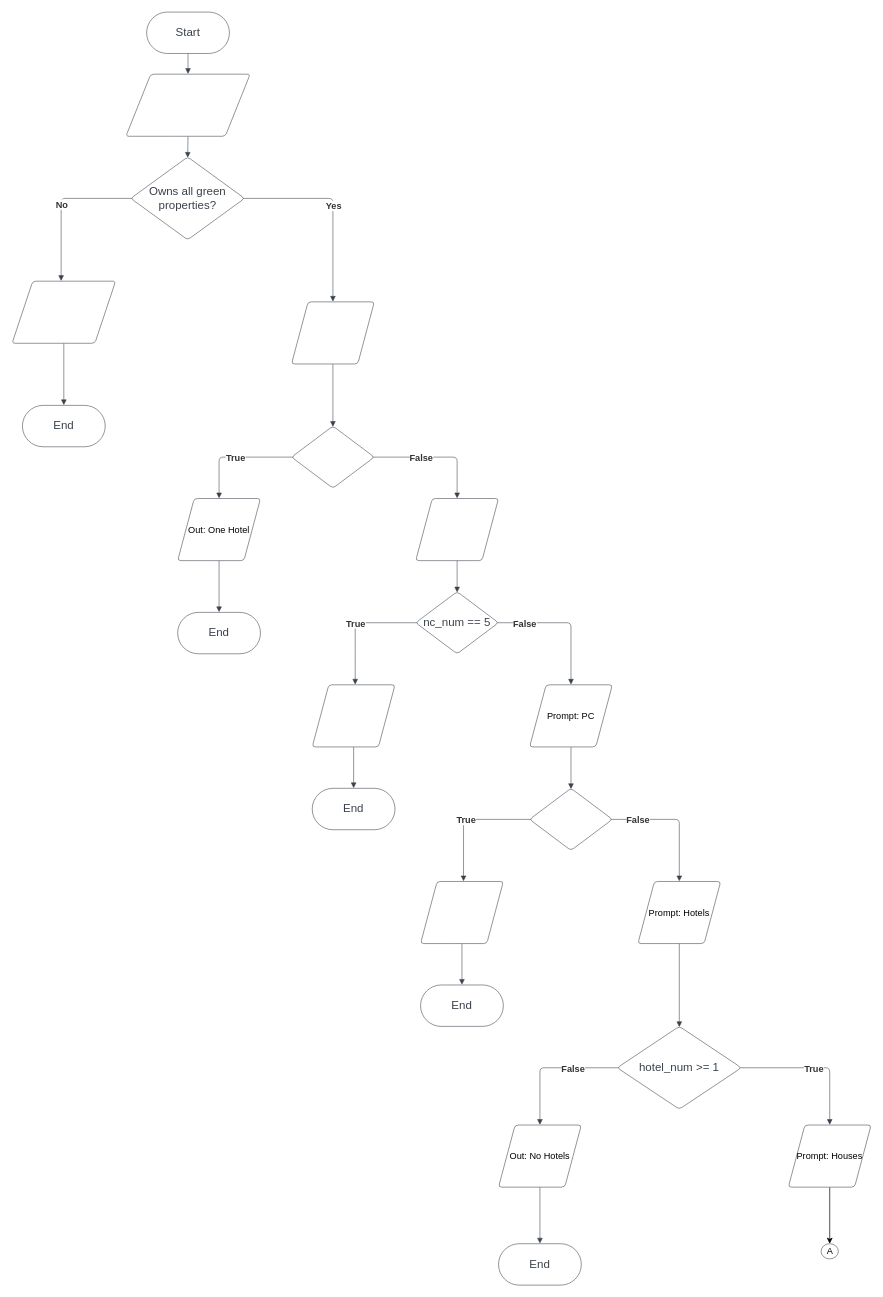
Image size: 883x1297. Some labels were removed from this diagram. Each missing label, with the centre of its shape:
Out: No Properties: pixel 63 312
Out: Swap NC: pixel 353 715
Out: Swap PC: pixel 461 912
pa_num == 5: pixel 332 456
pc_num == 5: pixel 570 819
Prompt: Color Group: pixel 187 105
Prompt: NC: pixel 456 529
Prompt: PA: pixel 332 332
